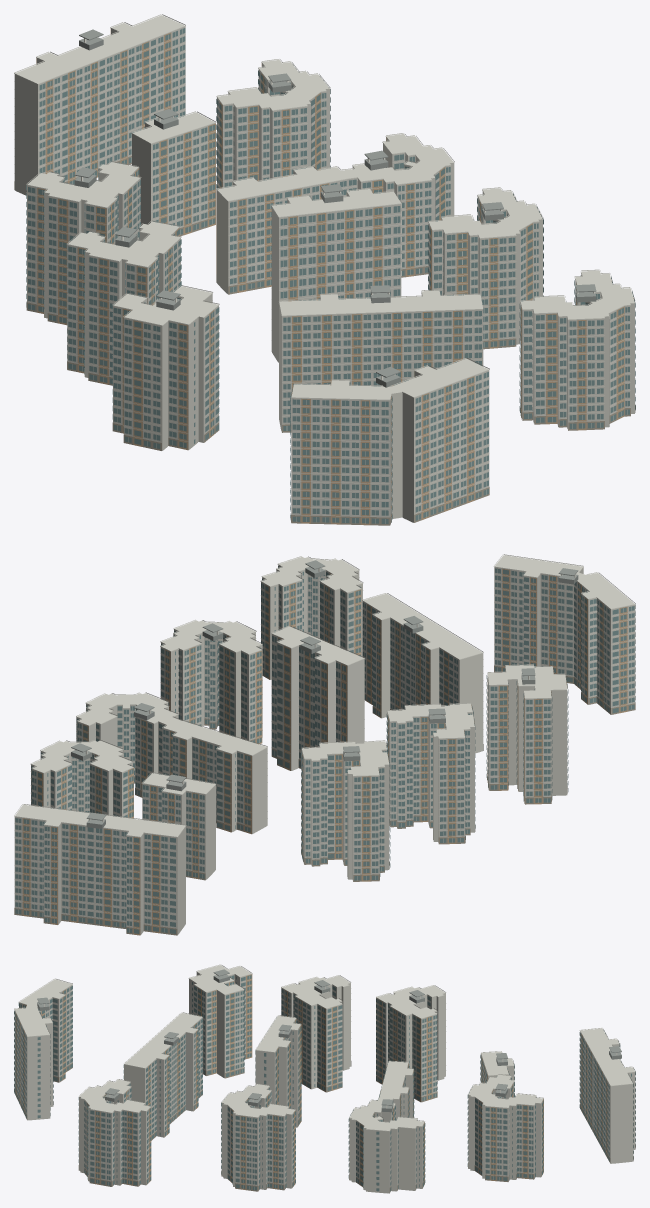
The model's file is representative-a13410005.glb.
The picture shows the model from 3 angles, top to bottom: view 1: azimuth 30°, elevation 25°; view 2: azimuth 150°, elevation 25°; view 3: azimuth 270°, elevation 25°; orthographic projection. The views are drawn at different scales.
Visible parts, largest first — view 1: A13410005_wall001, A13410005_glass001, A13410005_accent001, A13410005_trim001, A13410005_roof001, A13410005_base001; view 2: A13410005_wall001, A13410005_glass001, A13410005_accent001, A13410005_trim001, A13410005_roof001, A13410005_base001; view 3: A13410005_wall001, A13410005_glass001, A13410005_accent001, A13410005_trim001, A13410005_roof001, A13410005_base001.
Boxes of the visible parts, left/top/right/bottom form: A13410005_wall001: left=14, top=15, right=634, bottom=523; A13410005_glass001: left=26, top=28, right=635, bottom=523; A13410005_accent001: left=36, top=28, right=634, bottom=525; A13410005_trim001: left=14, top=14, right=635, bottom=523; A13410005_roof001: left=74, top=29, right=596, bottom=387; A13410005_base001: left=14, top=156, right=635, bottom=525; A13410005_wall001: left=14, top=555, right=635, bottom=935; A13410005_glass001: left=15, top=566, right=635, bottom=933; A13410005_accent001: left=22, top=568, right=627, bottom=935; A13410005_trim001: left=14, top=554, right=635, bottom=932; A13410005_roof001: left=71, top=560, right=578, bottom=828; A13410005_base001: left=14, top=665, right=635, bottom=935; A13410005_wall001: left=14, top=965, right=635, bottom=1193; A13410005_glass001: left=14, top=975, right=635, bottom=1191; A13410005_accent001: left=15, top=974, right=622, bottom=1189; A13410005_trim001: left=14, top=964, right=635, bottom=1189; A13410005_roof001: left=37, top=969, right=621, bottom=1112; A13410005_base001: left=14, top=1054, right=635, bottom=1192.
Size of the model in its own units: 160 by 53.7 by 290.
